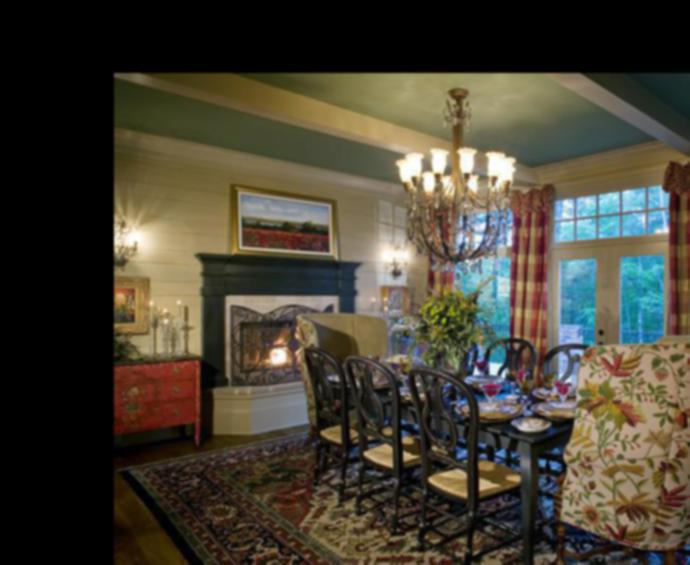Puerta: (550, 246, 659, 346)
